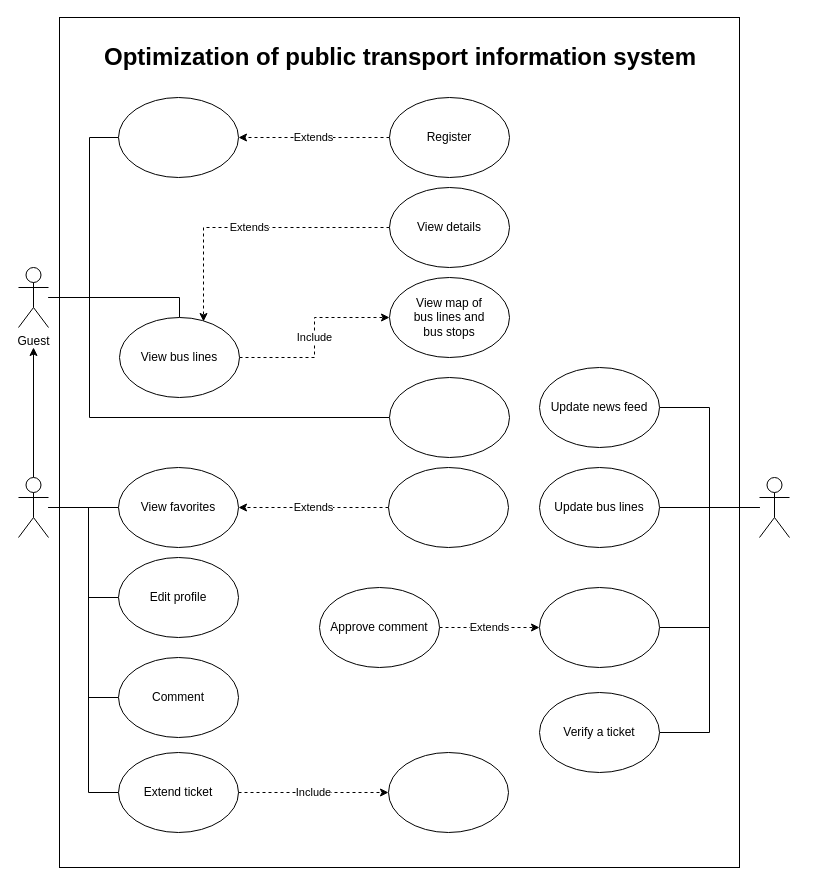
Some shapes in this 827 by 885 pixel diagram are drawn without their labels. The shapes that lost their labels are listed below. From the top down, each one's centre as x and y in pixels, then its label:
At (178,137): "Login".
At (449,417): "View news feed".
At (33,507): "User".
At (448,507): "Add a new bus stop to favorites".
At (774,507): "Administrator".
At (599,627): "Review comment".
At (448,792): "Submit a picture of a ticket".
